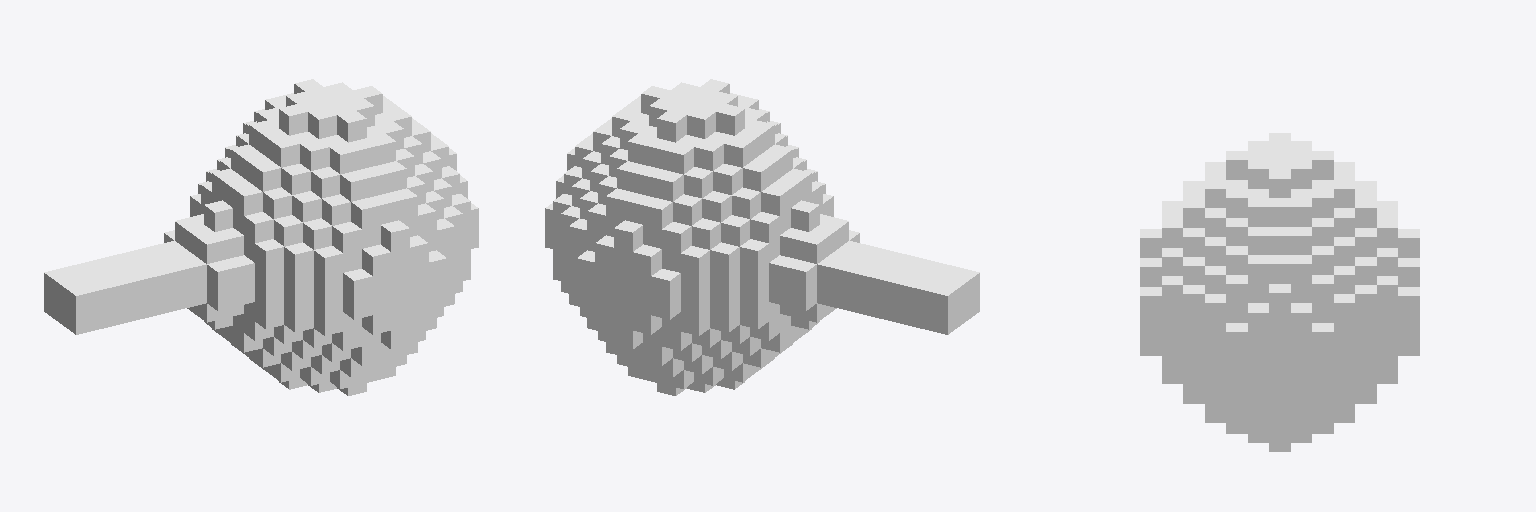
File: Boss_UFO-2.obj
3 views of the same model, side by side, from view 1: azimuth 30°, elevation 25°; view 2: azimuth 150°, elevation 25°; view 3: azimuth 270°, elevation 25° (orthographic).
Visible parts, largest first — view 1: object 1; view 2: object 1; view 3: object 1.
Boxes of the visible parts, <box> form: object 1: <box>44,79,478,395</box>; object 1: <box>545,79,979,395</box>; object 1: <box>1140,133,1419,451</box>.
Size of the model in its own units: 2.1 by 1.4 by 1.3.